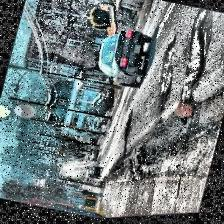pothole: (174, 9, 220, 107), (148, 35, 184, 119), (118, 110, 136, 154)
